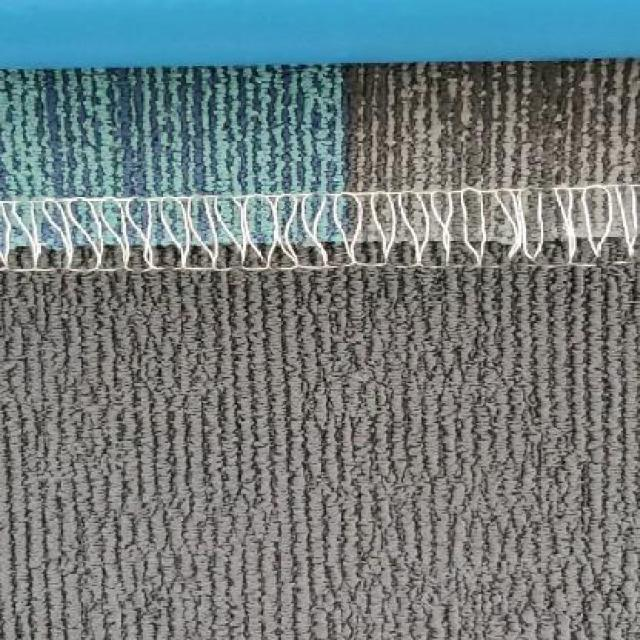gray stitch: (0, 184, 638, 280)
